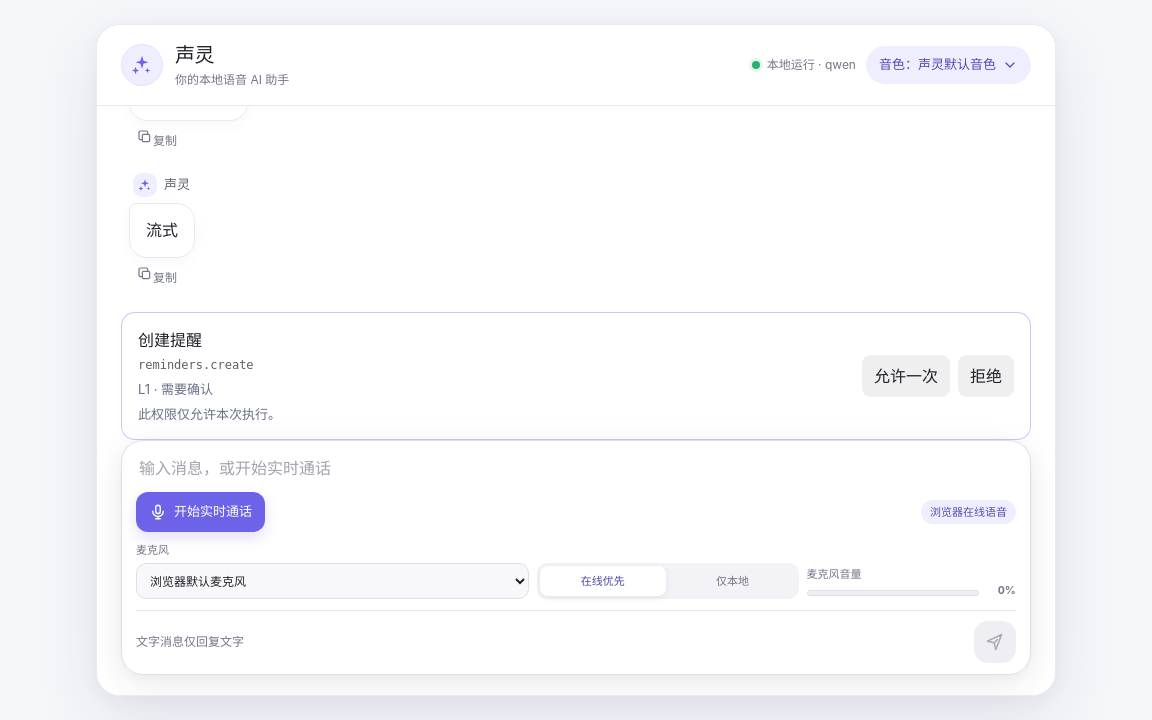
Test: App › shows a one-shot tool approval without exposing arguments
This screenshot has width=1152, height=720.
(page scrolled)
Expected: the element named "工具执行确认" shows "创建提醒", [138, 330, 202, 350]
Expected: the element named "工具执行确认" shows "reminders.create", [138, 358, 254, 372]
Click the button "允许一次". click: (906, 376)
box: [862, 355, 950, 397]
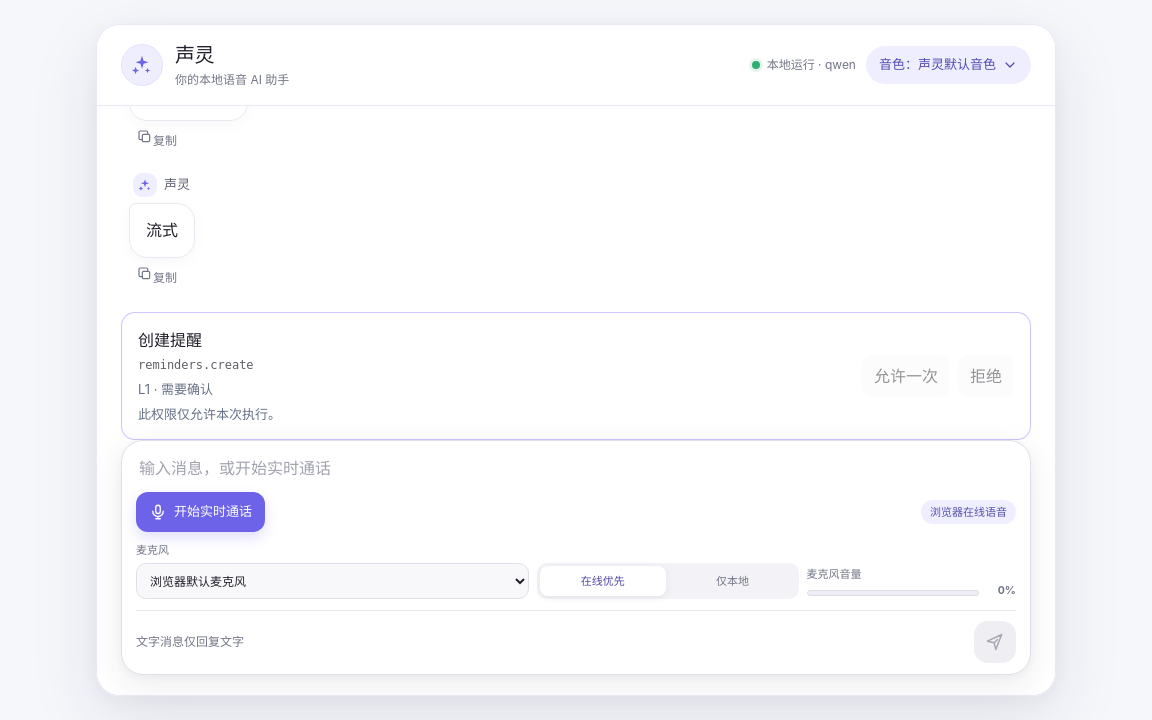
Result: the button "允许一次" is disabled at [862, 355, 950, 397]
Result: the button "拒绝" is disabled at [958, 355, 1014, 397]
